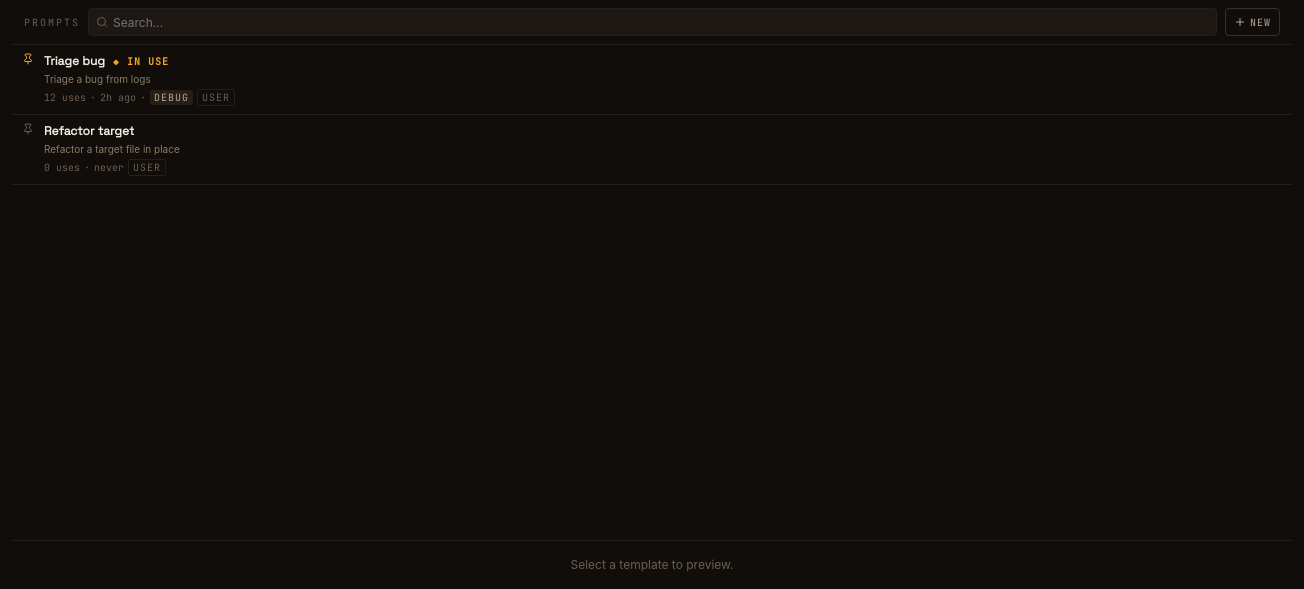
PromptsInspector › shows empty-search message for no matches
This screenshot has width=1304, height=589.
In the field named "Search templates": (652, 22) [88,8,1217,36], type "nothing-matches"
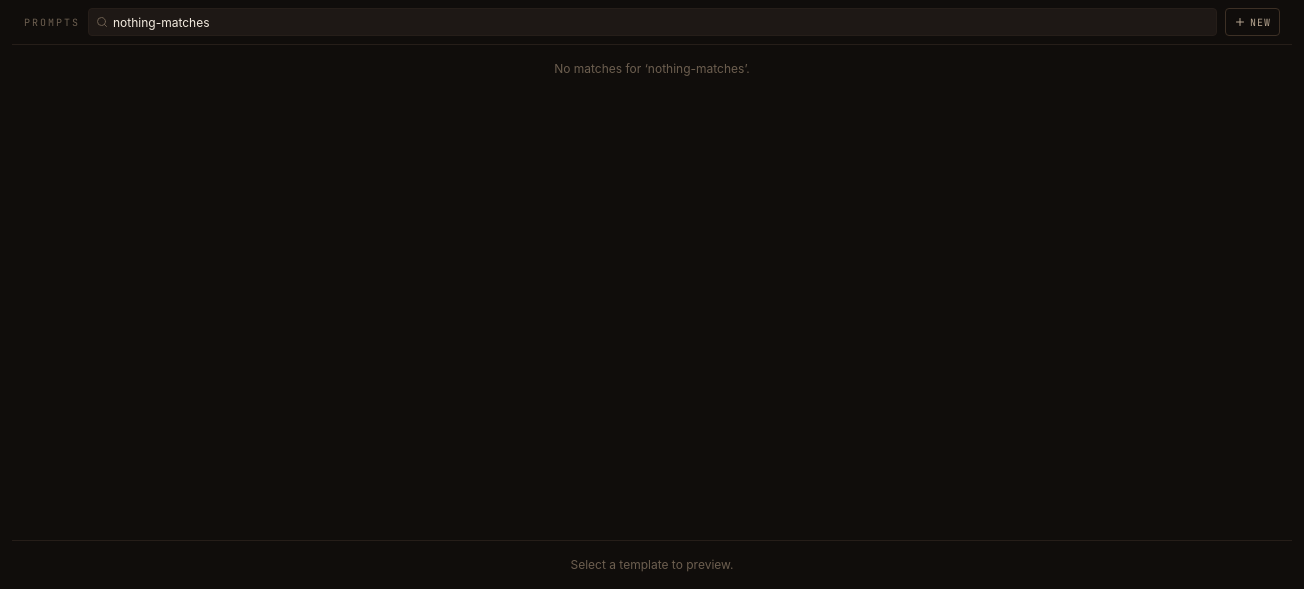
Now the text "No matches for ‘nothing-matches’." is shown, box [554,61,750,76]
